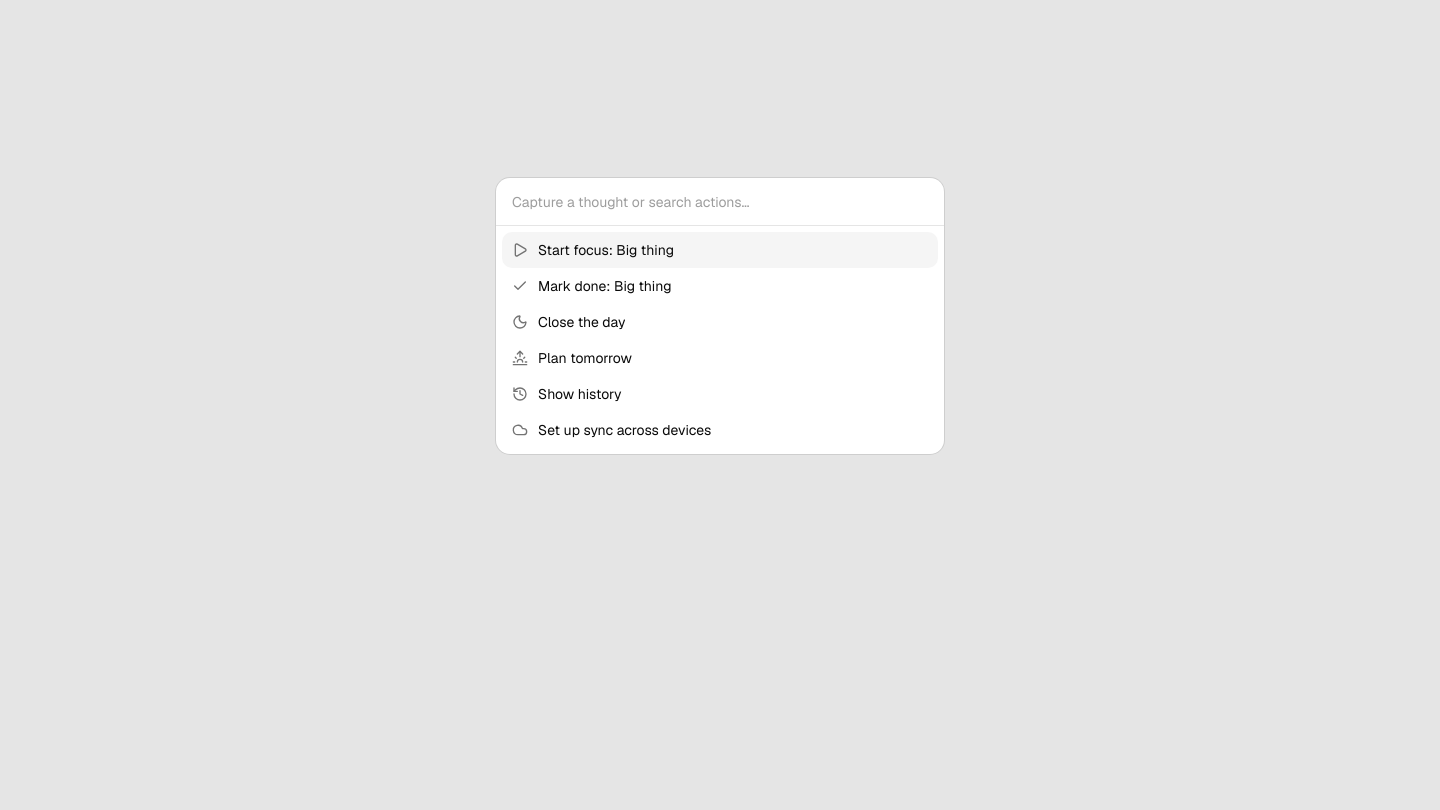
Test: CommandPalette › filters contextual actions by the query
Type "close" into the dropdown at x=720, y=202, box [496,178,944,226]
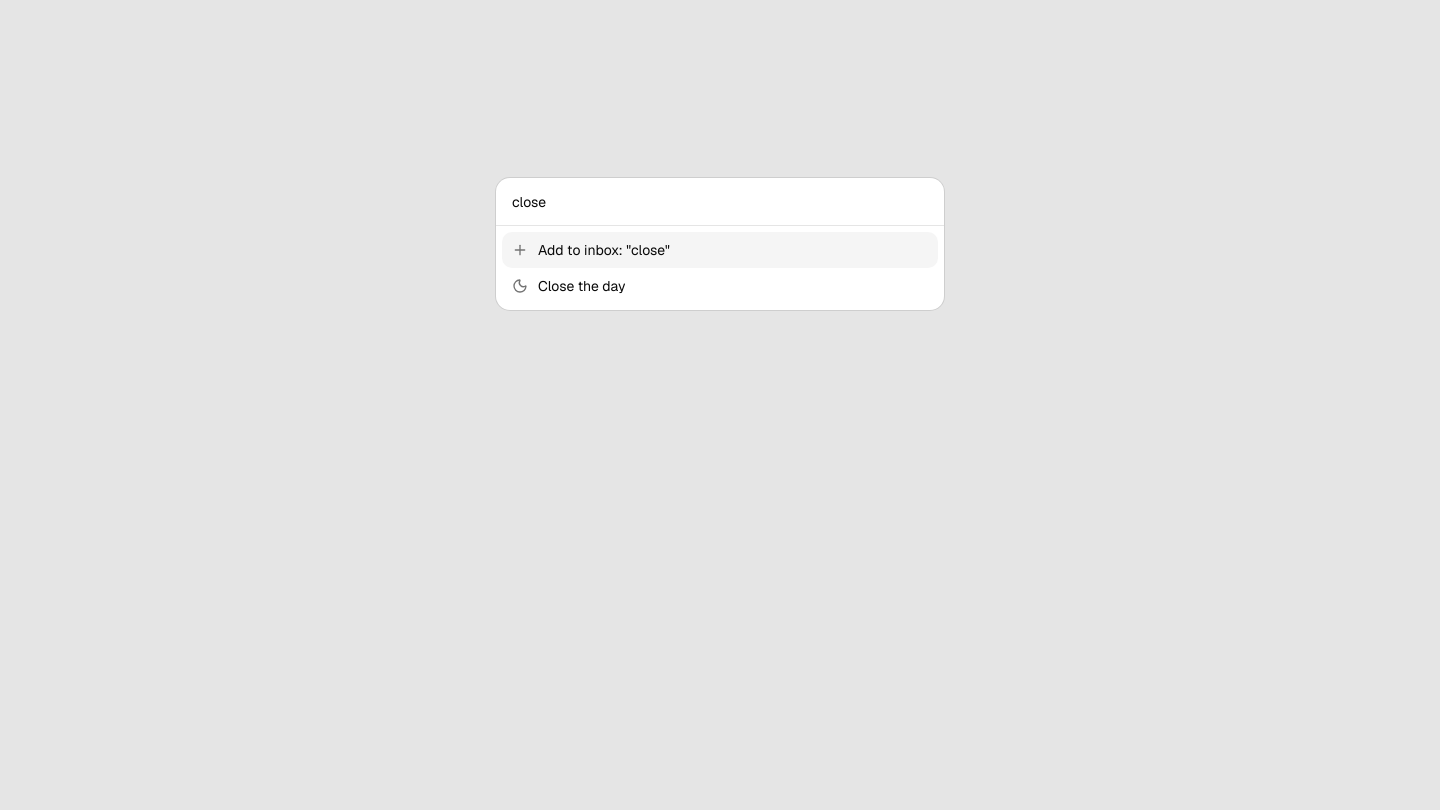
Expected: the text "Close the day" is shown, [538,276,625,296]
Now the option "Start focus: Big thing" is gone
Now the text "Add to inbox: \"close\"" is shown, box [538,240,670,260]
